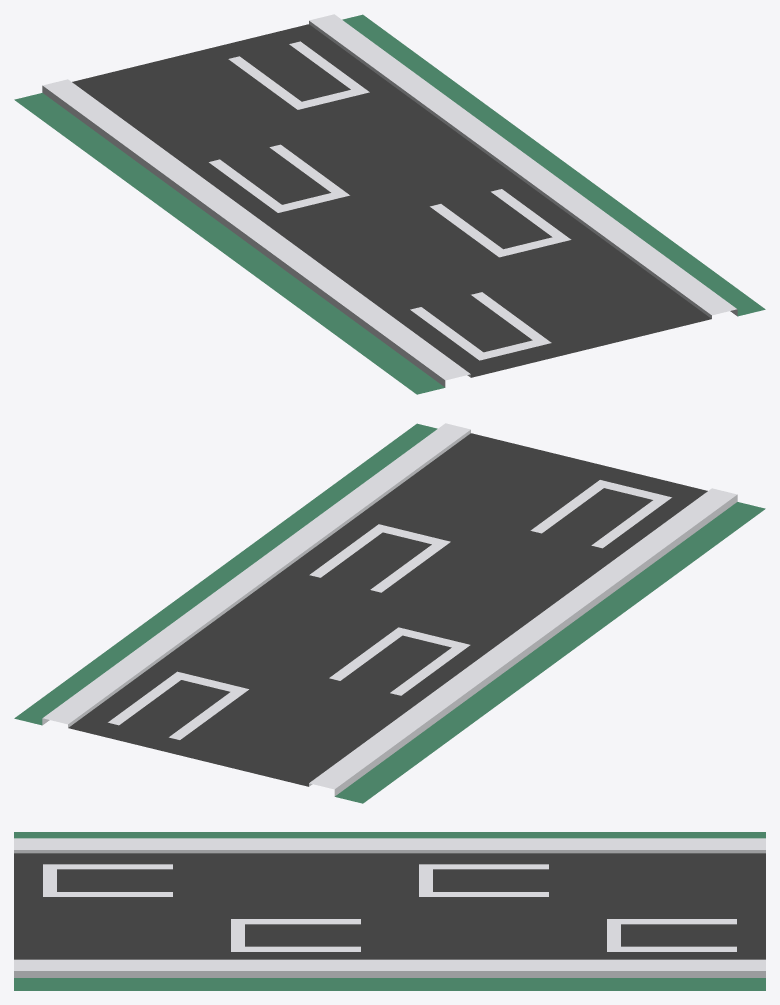
The model's file is kit_roadStartPositions.obj.
3 renders of one model, top to bottom at view 1: azimuth 30°, elevation 25°; view 2: azimuth 150°, elevation 25°; view 3: azimuth 270°, elevation 25°, orthographic. The views are drawn at different scales.
Visible parts, largest first — view 1: roadStartPositions; view 2: roadStartPositions; view 3: roadStartPositions.
Part boxes in pixels (x1=…): roadStartPositions: x1=14, y1=14, x2=765, y2=394; roadStartPositions: x1=14, y1=423, x2=765, y2=803; roadStartPositions: x1=14, y1=832, x2=765, y2=990.
Size of the model in its own units: 1 by 0.02 by 2.
